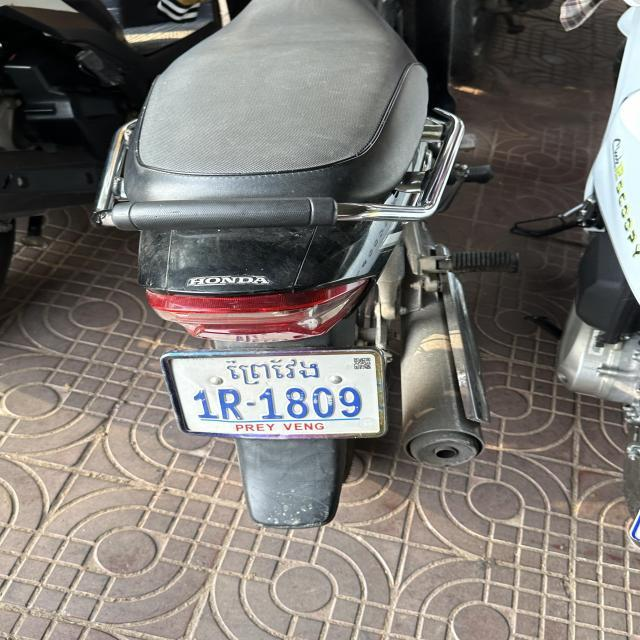Prey_Veng: (224, 356, 325, 387)
